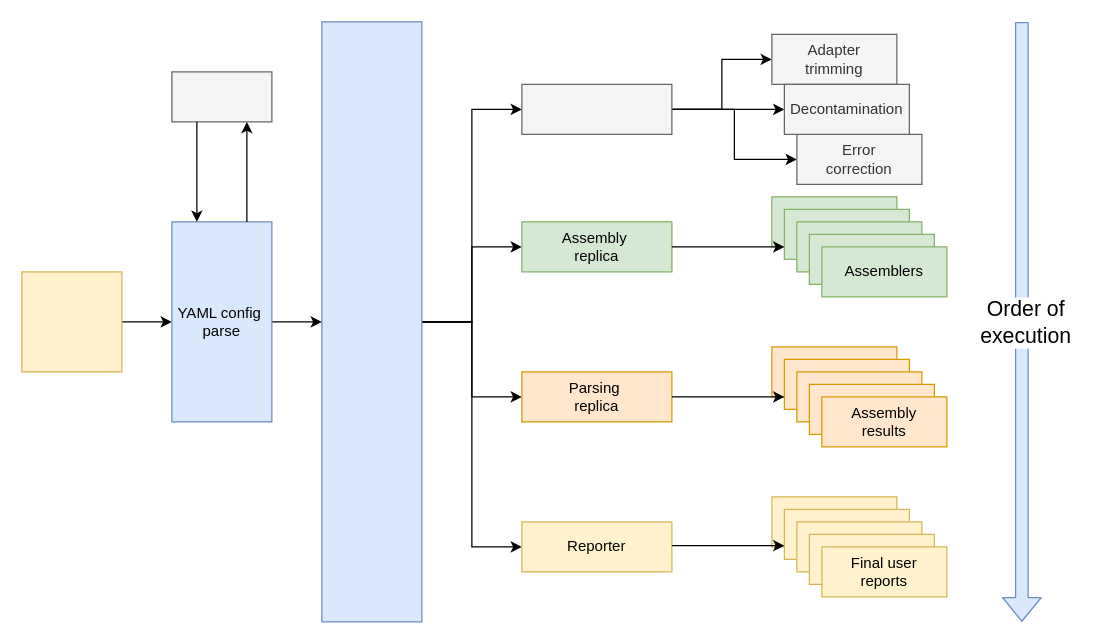
This 1093x644 diagram has some shape labels left out. Here are the shapes that lost their labels. From the top down, the centre of each, then its label:
At [221,96]: "Containers prepper".
At [596,108]: "Quality control replica".
At [71,321]: "User YAML file".
At [371,321]: "Primary process".
